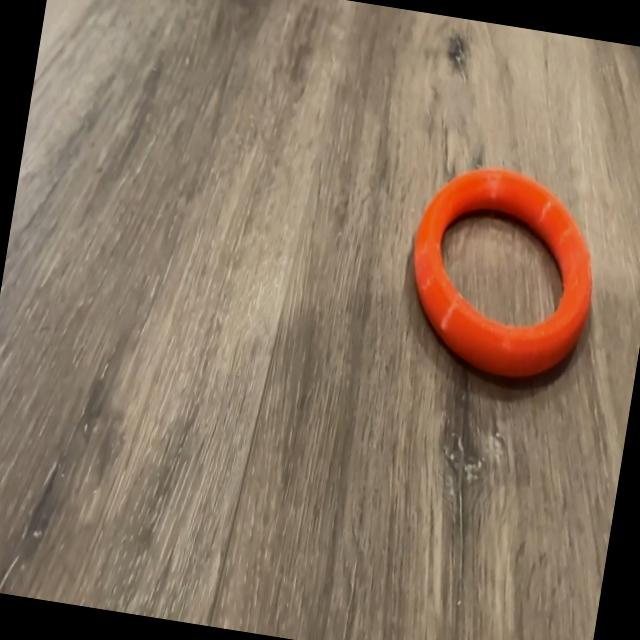note: (396, 156, 610, 393)
